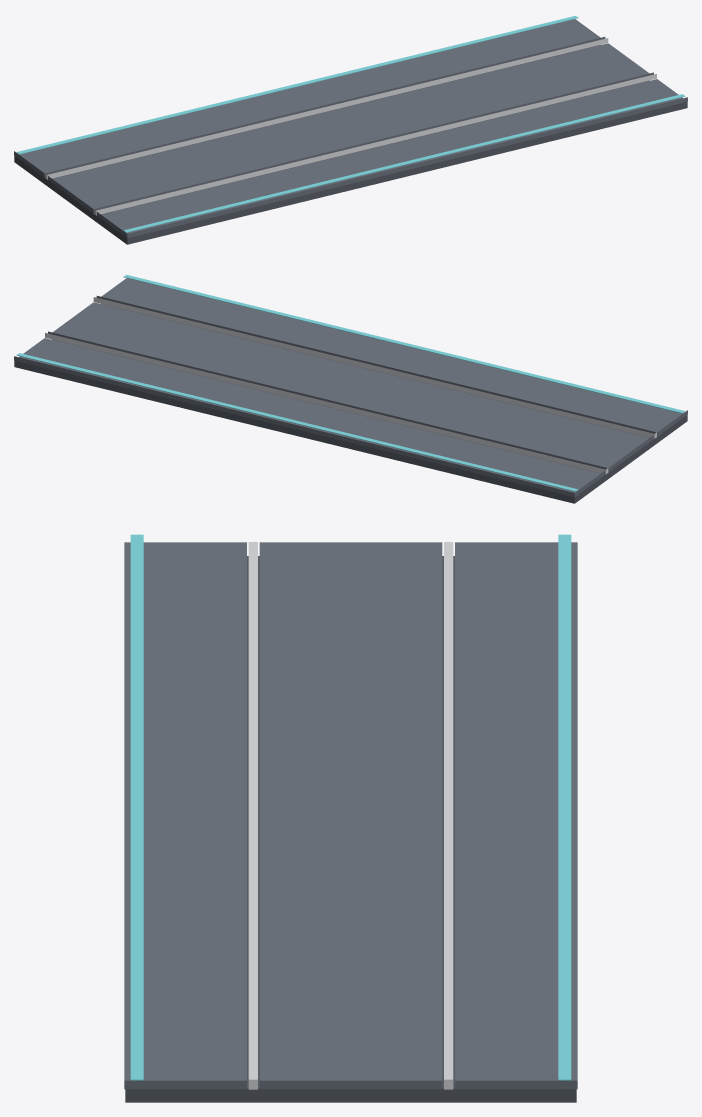
Rendered from ext_tram_rail_module_01.glb.
3 renders of one model, top to bottom at view 1: azimuth 30°, elevation 25°; view 2: azimuth 150°, elevation 25°; view 3: azimuth 270°, elevation 25°, orthographic. The views are drawn at different scales.
Parts seen in each view (by area): view 1: Top_Slab, Rails, Base_Slab, Edge_Bands; view 2: Top_Slab, Rails, Base_Slab, Edge_Bands; view 3: Top_Slab, Edge_Bands, Rails, Base_Slab.
Boxes of the visible parts, x1,y1,x2,y2 form: Top_Slab: [14, 19, 687, 238]; Rails: [45, 38, 656, 215]; Base_Slab: [14, 45, 687, 244]; Edge_Bands: [16, 15, 685, 232]; Top_Slab: [14, 278, 687, 497]; Rails: [45, 297, 656, 474]; Base_Slab: [14, 304, 687, 503]; Edge_Bands: [16, 274, 685, 491]; Top_Slab: [124, 542, 577, 1089]; Edge_Bands: [130, 534, 571, 1080]; Rails: [248, 542, 453, 1089]; Base_Slab: [125, 556, 576, 1102].
Bounding box in the file's own units: 9.99 × 0.2 × 3.5.
